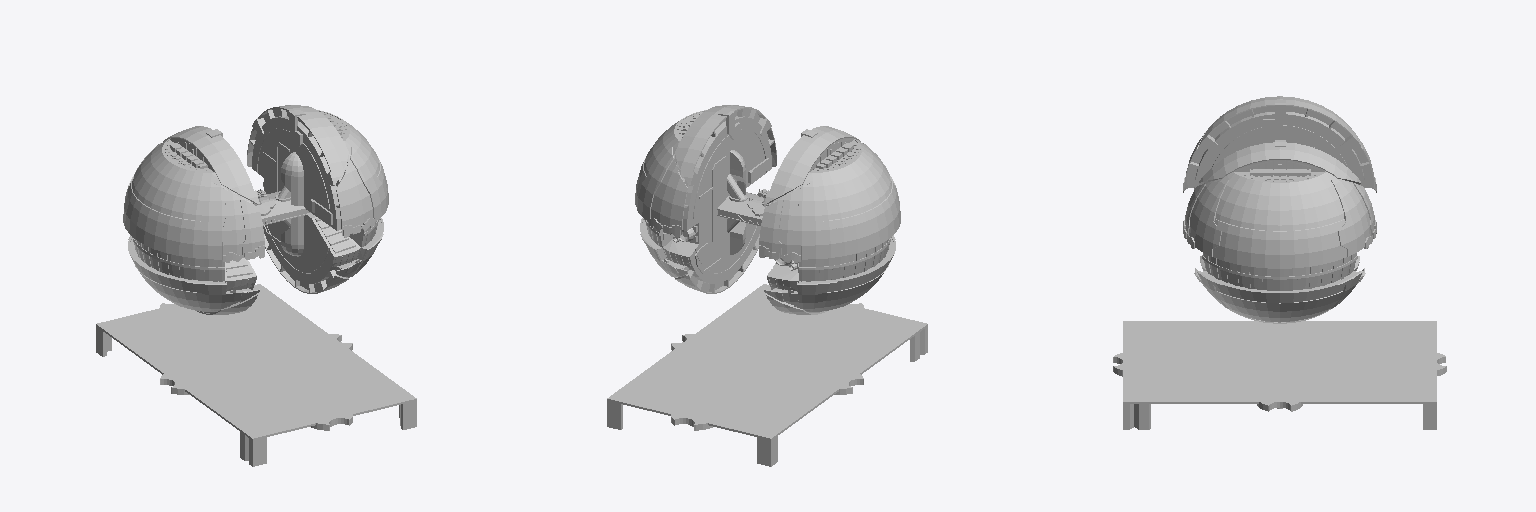
3 renders of one model, left to right at view 1: azimuth 30°, elevation 25°; view 2: azimuth 150°, elevation 25°; view 3: azimuth 270°, elevation 25°, orthographic.
Visible parts, largest first — view 1: SeV_Supplyship, Base_-_Large_-_FIXED_pSphere3_0.005; view 2: SeV_Supplyship, Base_-_Large_-_FIXED_pSphere3_0.005; view 3: SeV_Supplyship, Base_-_Large_-_FIXED_pSphere3_0.005.
Part boxes in pixels (x1,y1,x2,y2): SeV_Supplyship: (123, 105, 388, 314); Base_-_Large_-_FIXED_pSphere3_0.005: (96, 284, 416, 466); SeV_Supplyship: (635, 105, 900, 314); Base_-_Large_-_FIXED_pSphere3_0.005: (607, 284, 927, 466); SeV_Supplyship: (1183, 96, 1376, 323); Base_-_Large_-_FIXED_pSphere3_0.005: (1113, 321, 1446, 429).
Bounding box in the file's own units: 4.56 × 4.84 × 5.46.